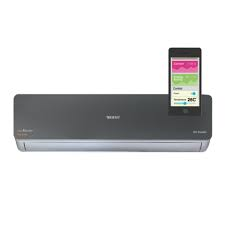ac: (11, 89, 214, 162)
